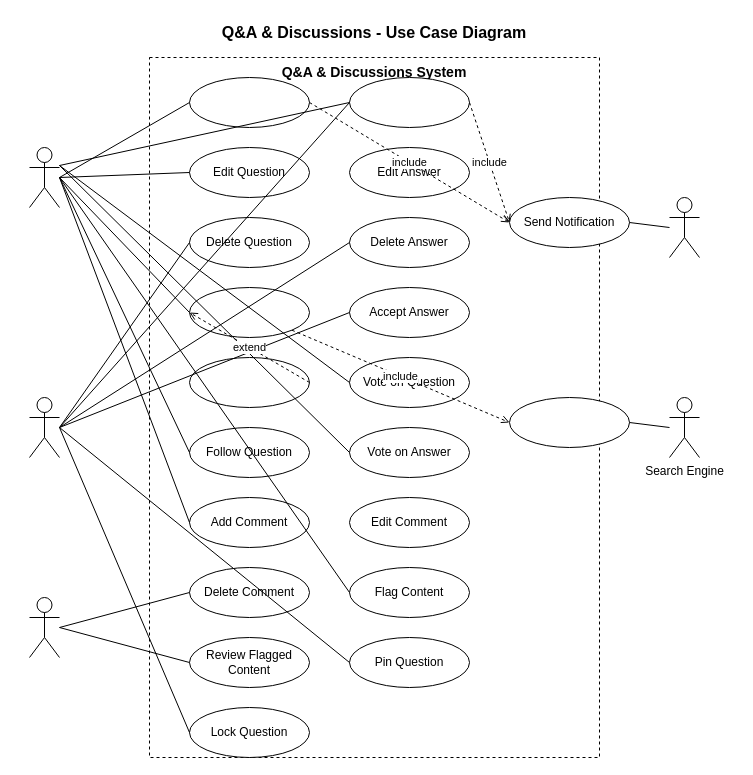
The diagram is 753 pixels wide and 775 high, and some of its shapes have lost their labels. Here are the shapes that lost their labels. From the top down, the centre of each, then its label:
At [249,102]: "Post Question".
At [409,102]: "Post Answer".
At [44,177]: "Student".
At [684,227]: "Notification System".
At [249,312]: "Search Questions".
At [249,382]: "Filter Questions".
At [44,427]: "Instructor".
At [569,422]: "Index Content".
At [44,627]: "Moderator".
